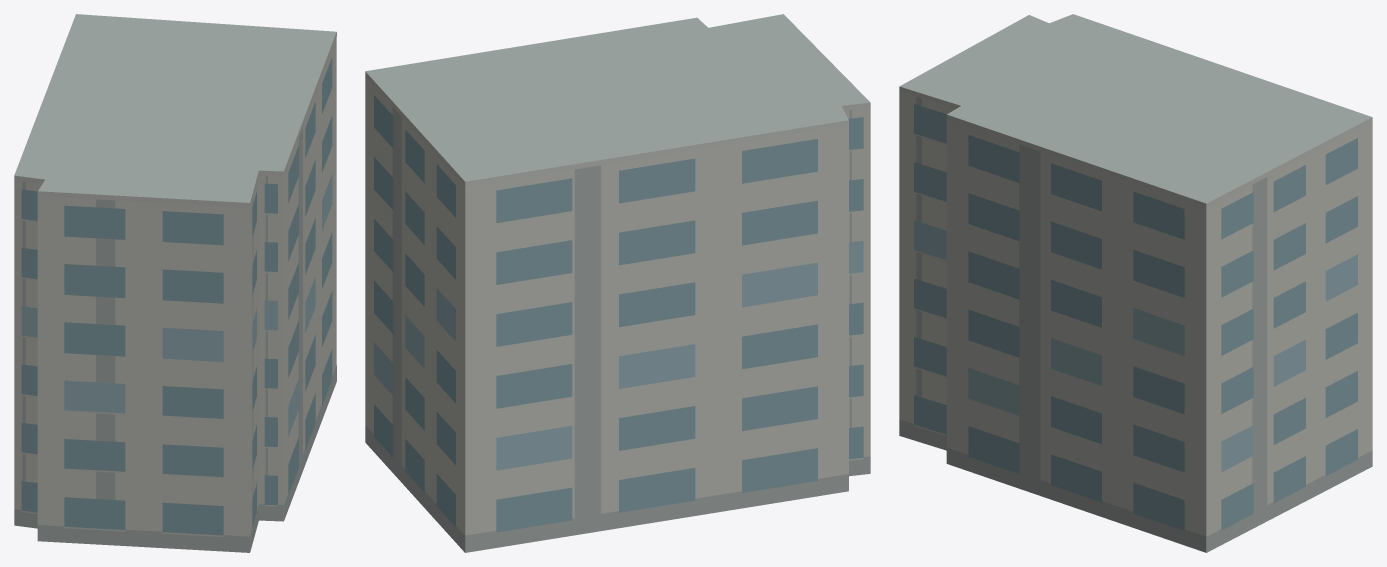
The model's file is survey-upis-32867578.glb.
3 views of the same model, side by side, from view 1: azimuth 30°, elevation 25°; view 2: azimuth 150°, elevation 25°; view 3: azimuth 270°, elevation 25° (orthographic). The views are drawn at different scales.
Parts seen in each view (by area): view 1: survey-upis-32867578.tmp; view 2: survey-upis-32867578.tmp; view 3: survey-upis-32867578.tmp.
Part boxes in pixels (left/top/right/bottom): survey-upis-32867578.tmp: left=14, top=14, right=336, bottom=552; survey-upis-32867578.tmp: left=365, top=14, right=870, bottom=552; survey-upis-32867578.tmp: left=899, top=14, right=1372, bottom=552.
Size of the model in its own units: 20.03 by 17.2 by 21.13.
